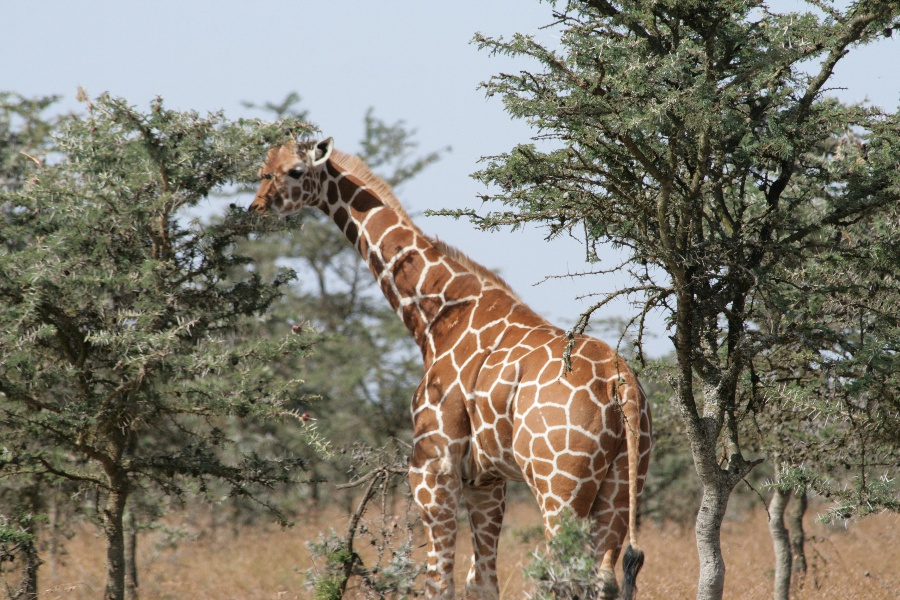giraffe: (240, 121, 673, 591)
